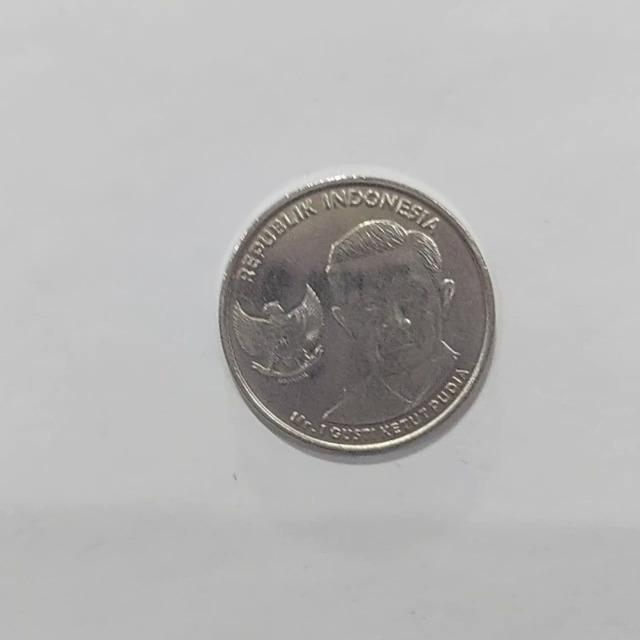Rp100: (217, 172, 496, 460)
